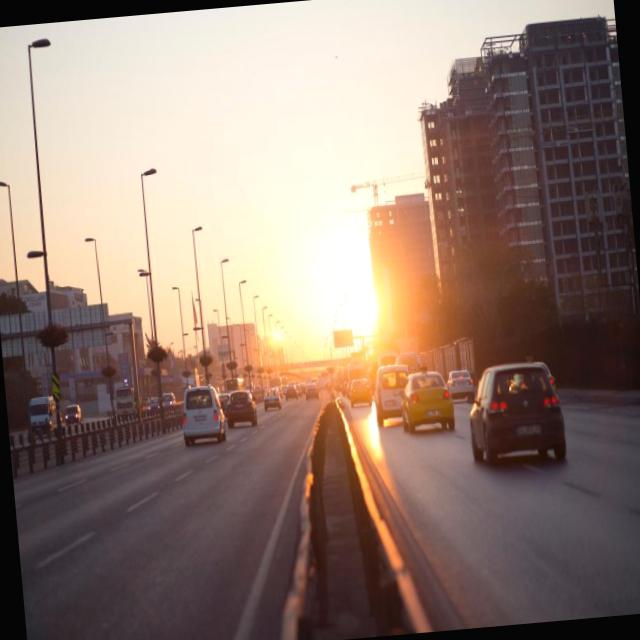Vehicle: (472, 364, 578, 476), (402, 372, 464, 438), (180, 382, 227, 462), (372, 362, 404, 417), (226, 387, 260, 434), (451, 361, 472, 394), (348, 379, 371, 406), (264, 387, 286, 415), (285, 381, 299, 404), (306, 385, 319, 401)
